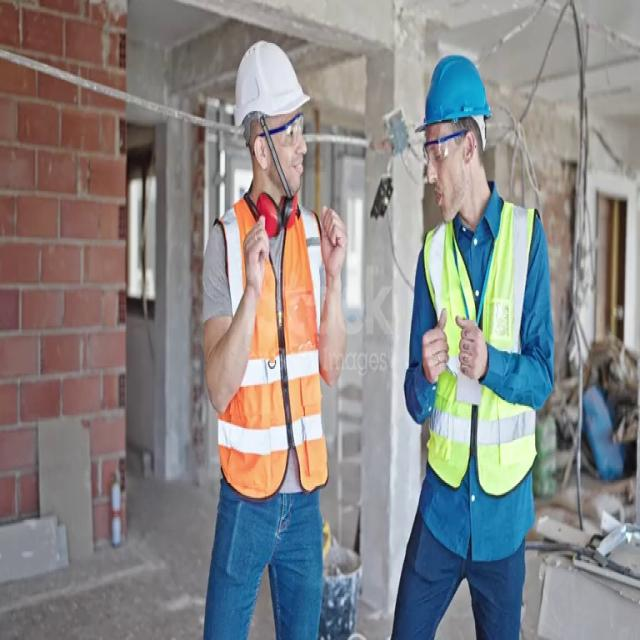capacete: (220, 25, 325, 141), (405, 50, 509, 152)
